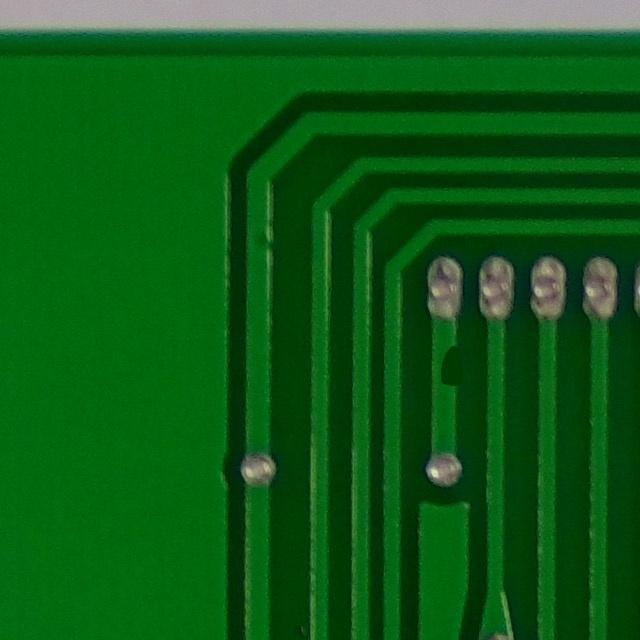mouse_bite: (424, 339, 471, 395)
